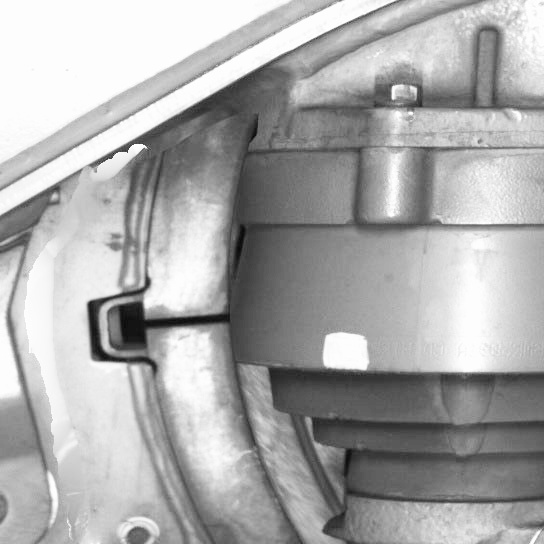ClosedKnifeSwitch: (116, 145, 354, 541)
